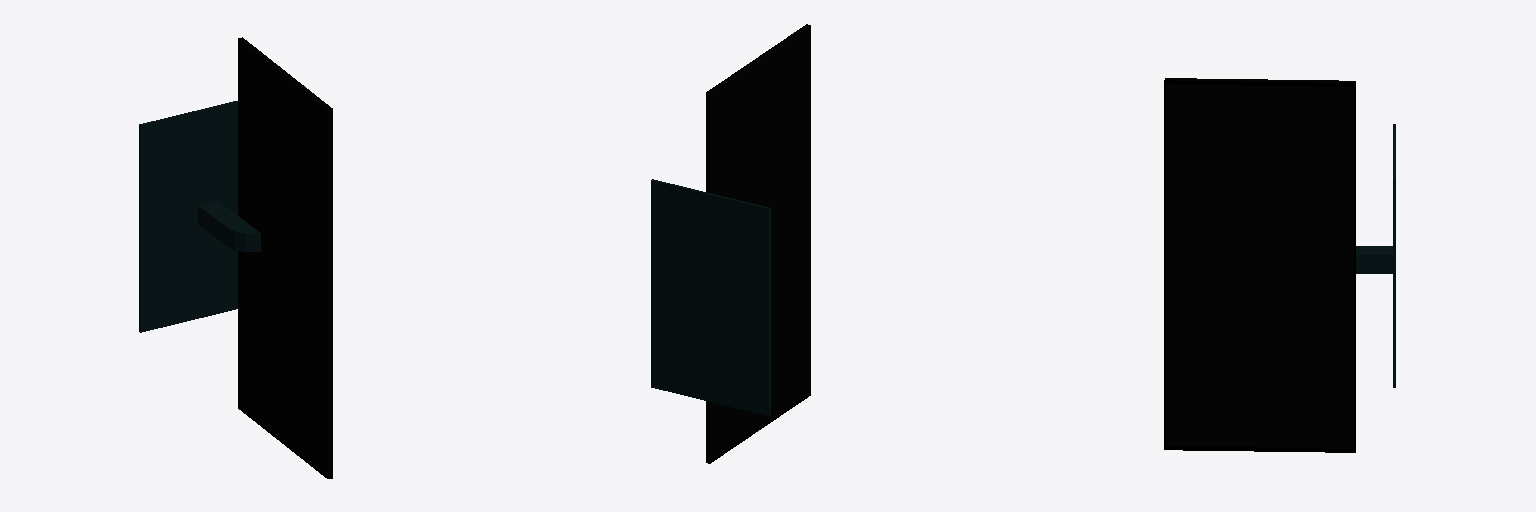
File: Monitor.obj
3 views of the same model, side by side, from view 1: azimuth 30°, elevation 25°; view 2: azimuth 150°, elevation 25°; view 3: azimuth 270°, elevation 25° (orthographic).
Parts seen in each view (by area): view 1: Cube.002_Cube.003, Cube_Cube.001, Cube.001_Cube.002; view 2: Cube.002_Cube.003, Cube_Cube.001; view 3: Cube.002_Cube.003, Cube.001_Cube.002, Cube_Cube.001.
Boxes of the visible parts, <box> form: Cube.002_Cube.003: <box>238,37,332,478</box>; Cube_Cube.001: <box>139,101,237,332</box>; Cube.001_Cube.002: <box>198,201,260,251</box>; Cube.002_Cube.003: <box>706,24,810,463</box>; Cube_Cube.001: <box>651,179,770,415</box>; Cube.002_Cube.003: <box>1164,78,1355,452</box>; Cube.001_Cube.002: <box>1356,246,1392,273</box>; Cube_Cube.001: <box>1393,124,1395,387</box>.
Bounding box in the file's own units: 24.65 × 73.76 × 41.75.